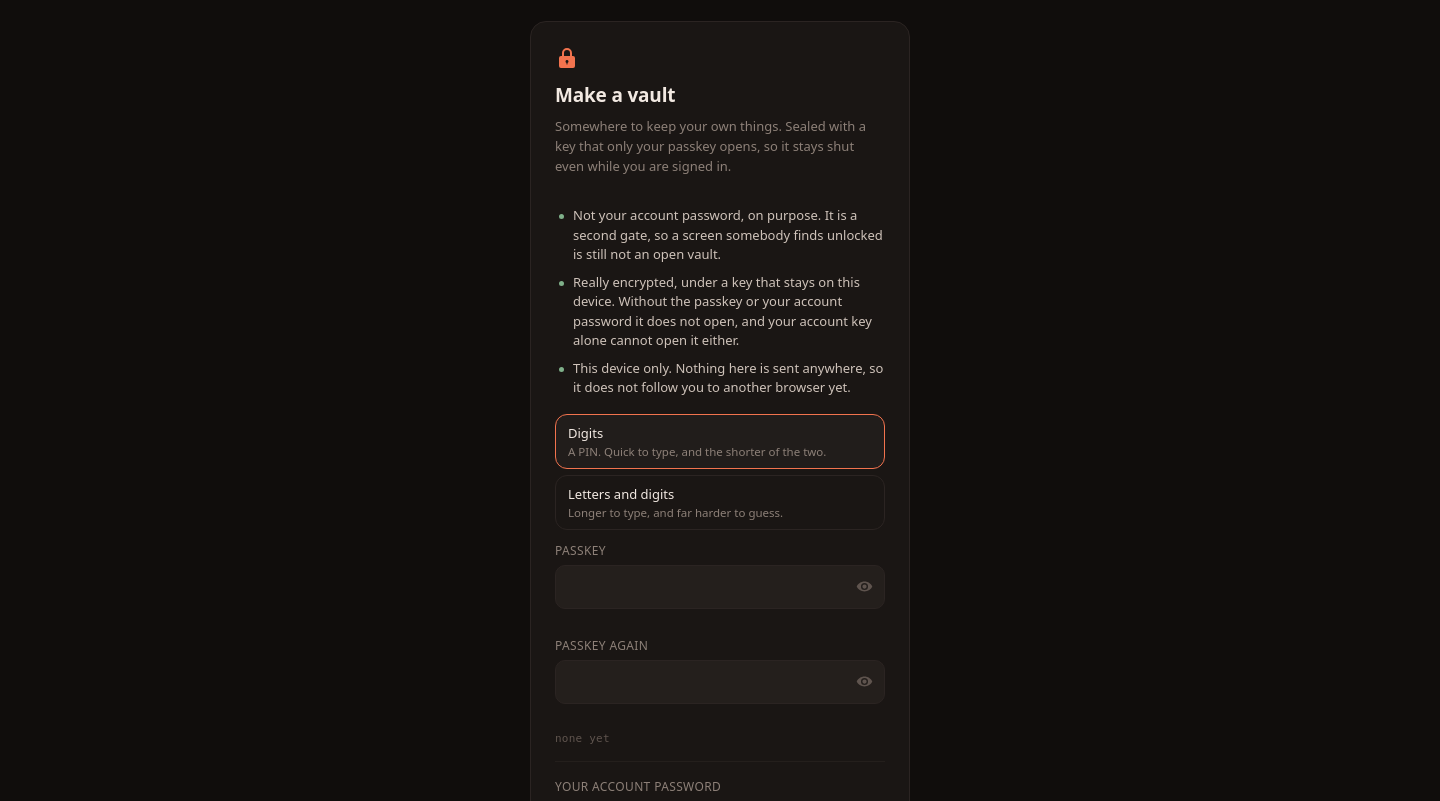
it: the vault screen › makes one, then keeps a note in it
Type "318842" into the password field labelled "Passkey".
click(720, 587); type("318842")  # box [555,565,885,609]
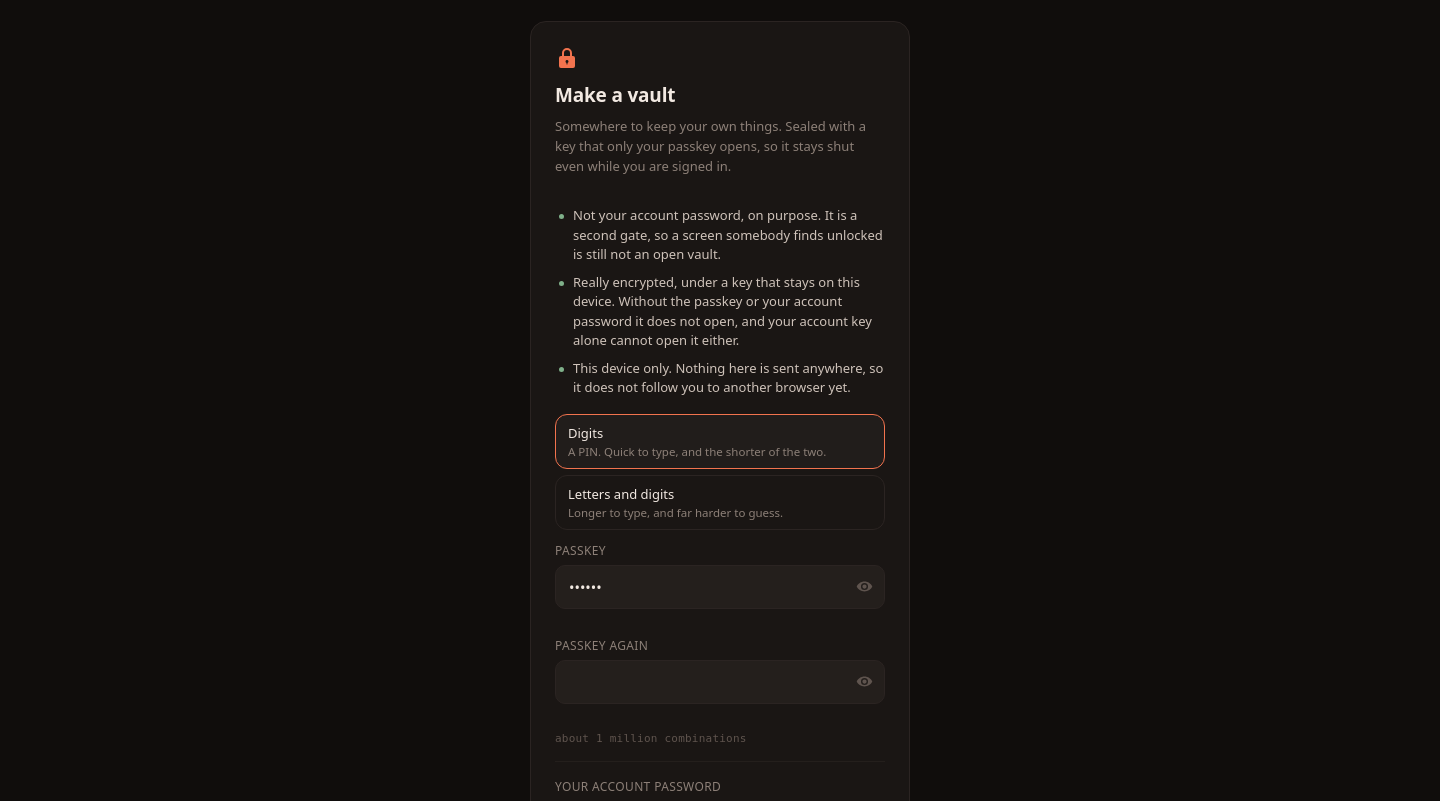
Type "318842" into the password field labelled "Passkey again".
click(720, 682); type("318842")  # box [555,660,885,704]
(page scrolled)
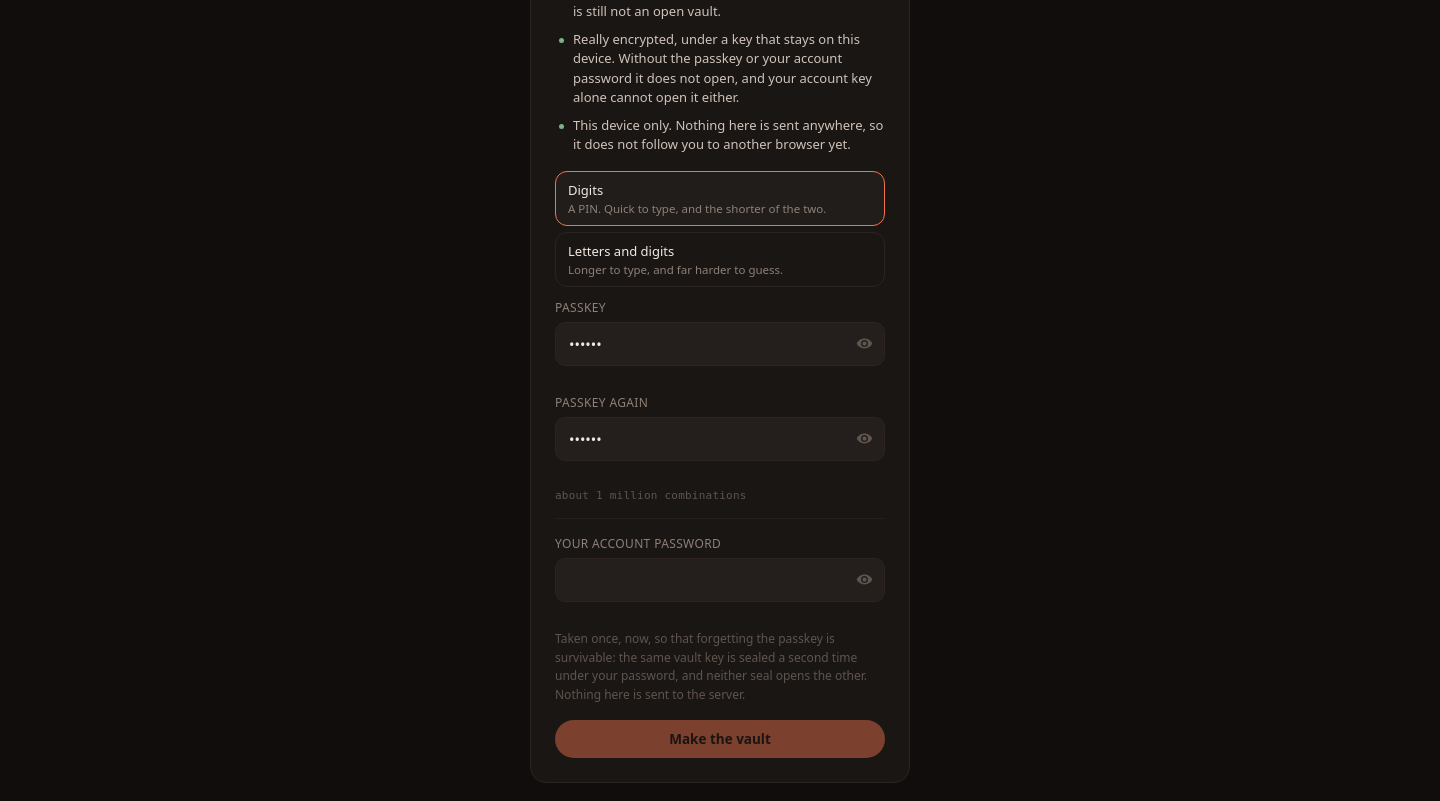
Type "correct-horse-battery-staple" into the password field labelled "Your account password".
click(720, 580); type("correct-horse-battery-staple")  # box [555,558,885,602]
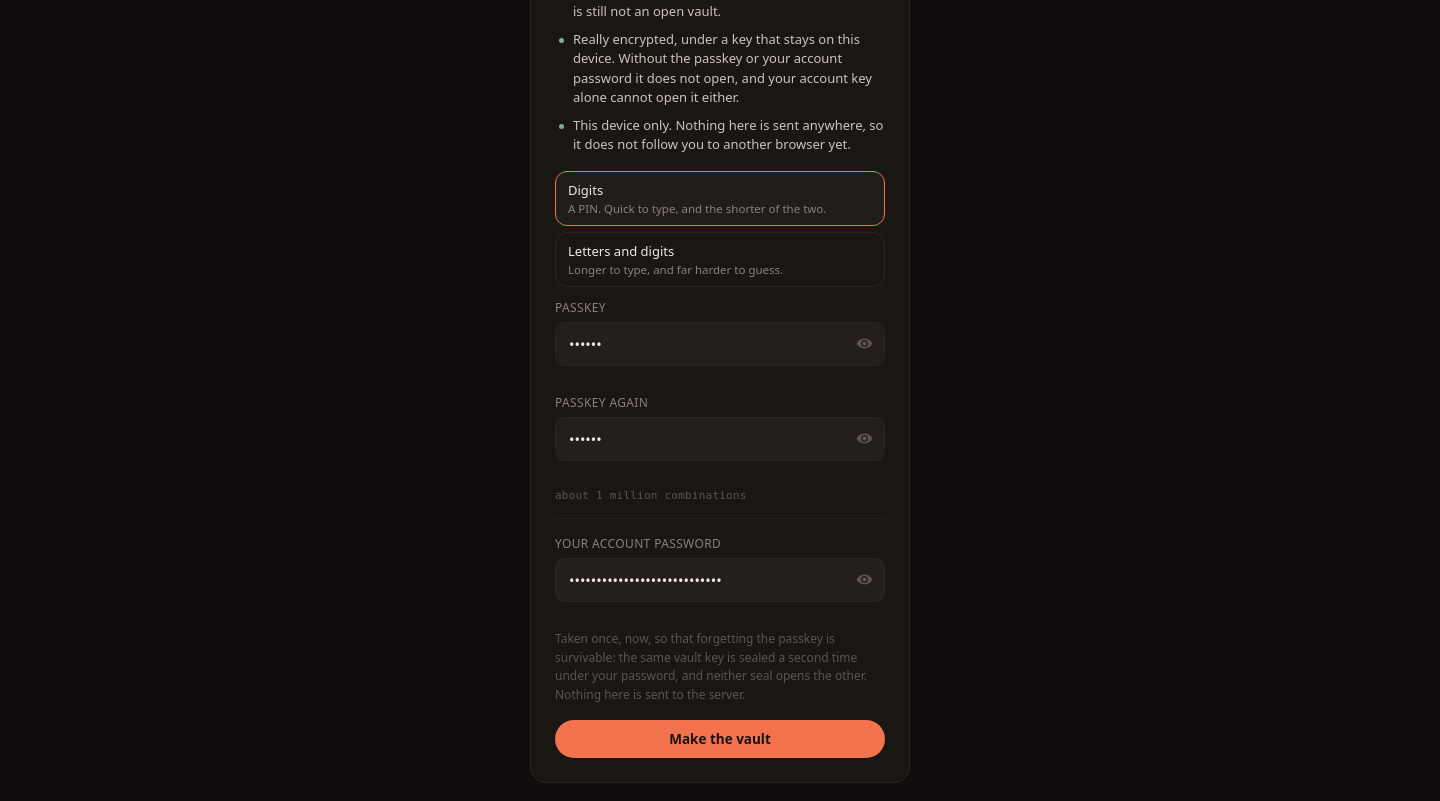
Click the button "Make the vault".
click(720, 739)  # box [555,720,885,758]
(page scrolled)
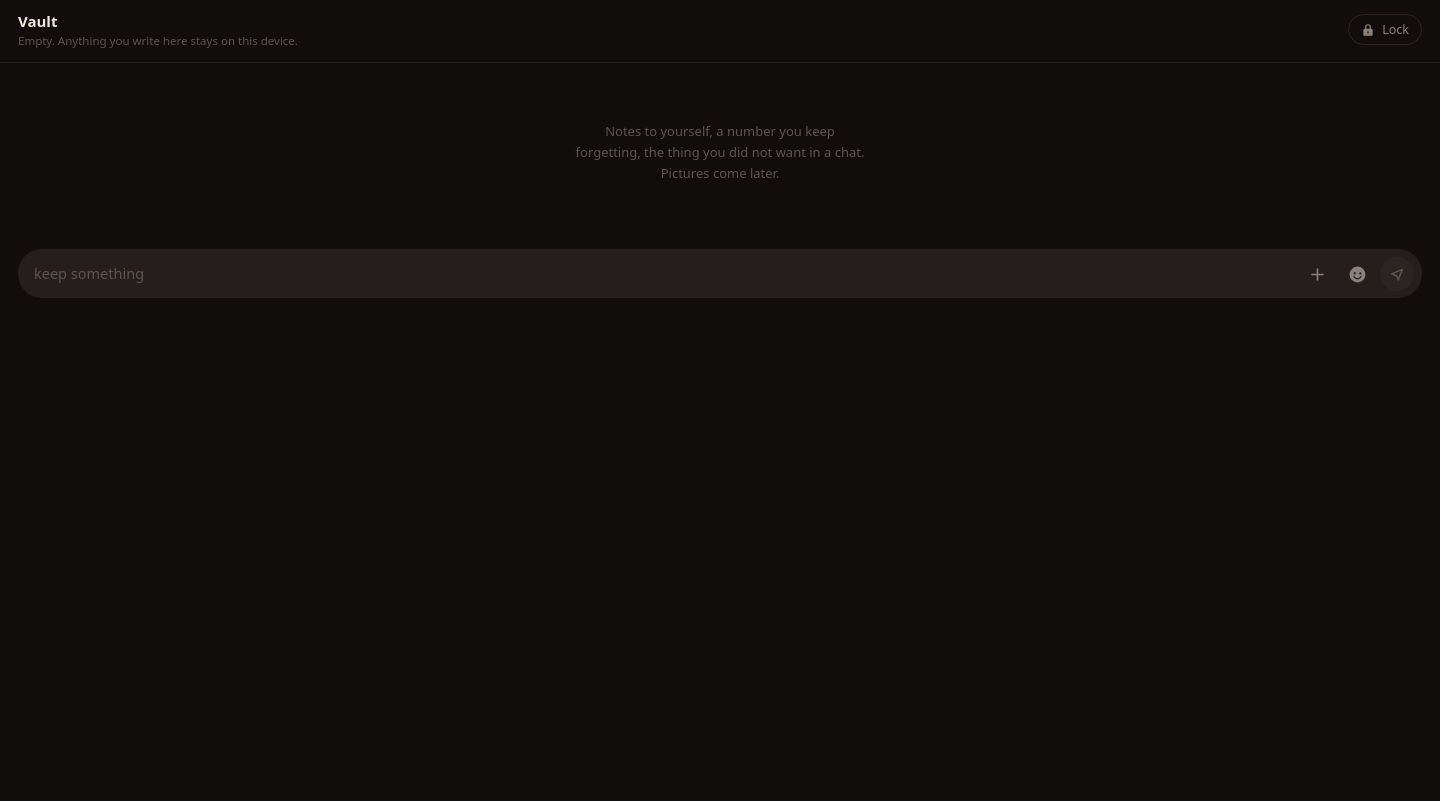
Result: the text box with placeholder "keep something" is shown
Type "the spare key is under the pot" into the text box with placeholder "keep something".
click(664, 274); type("the spare key is under the pot")  # box [34,256,1294,291]
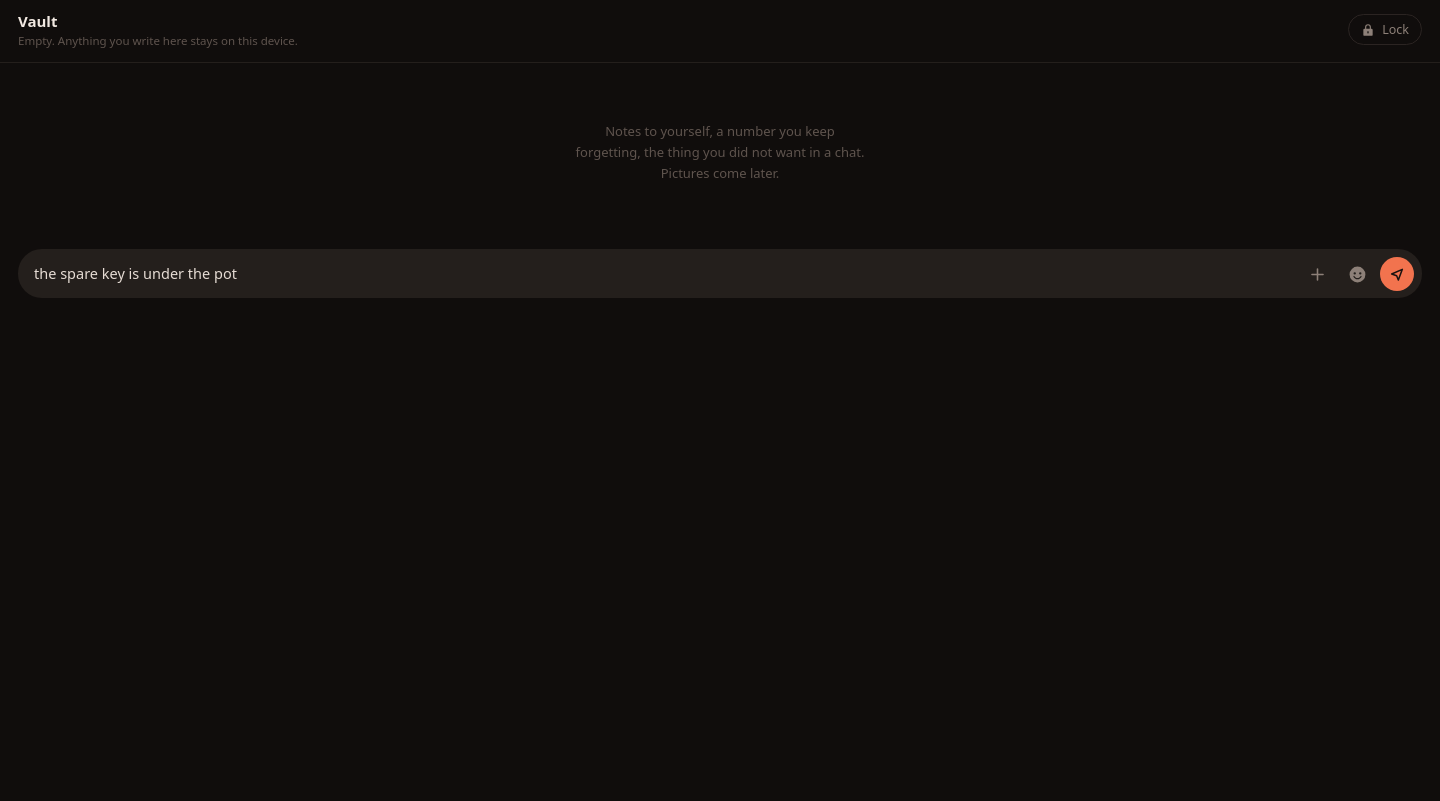
Press Enter in the text box with placeholder "keep something", box [34,256,1294,291]
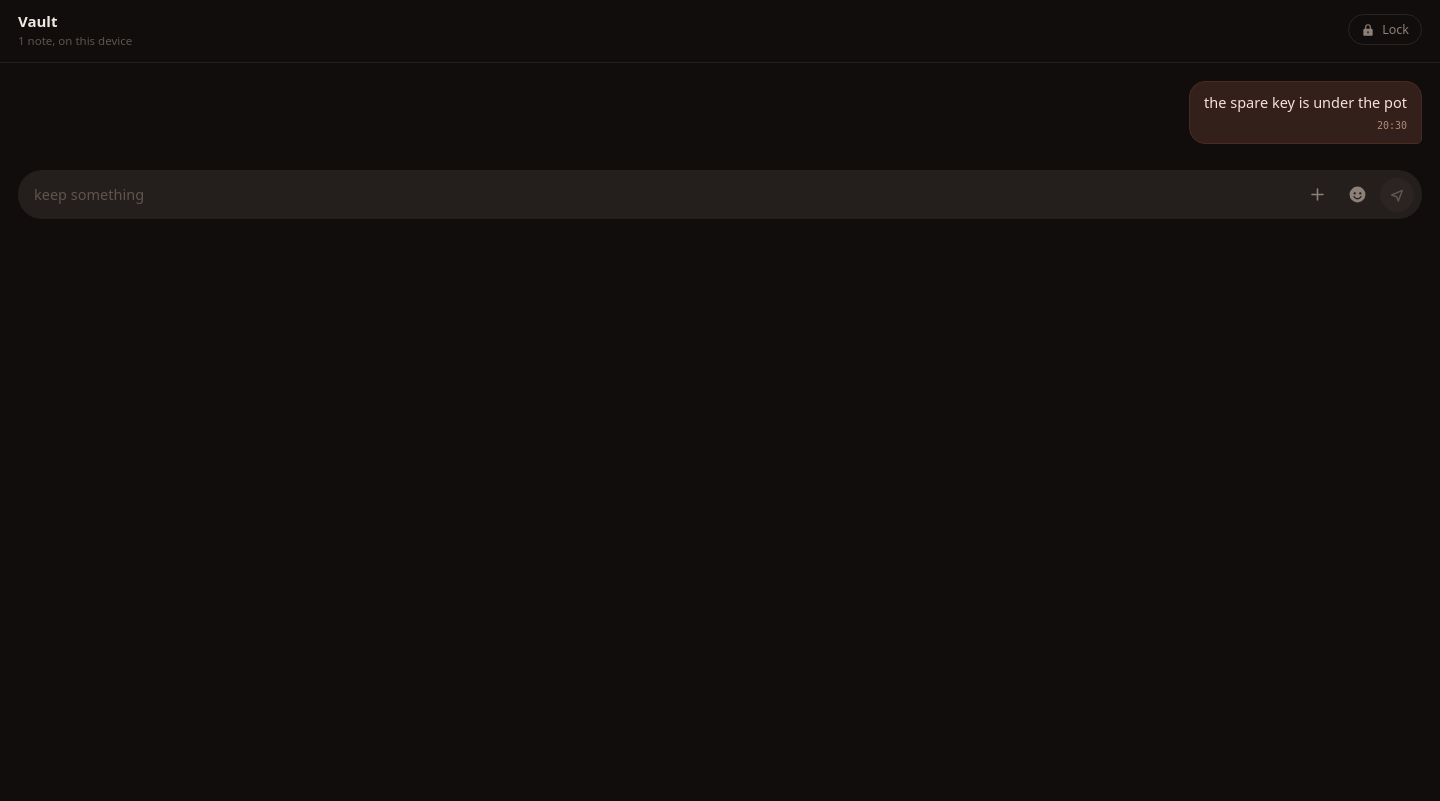
Result: the text "the spare key is under the pot" is shown at [1204,92,1407,112]
